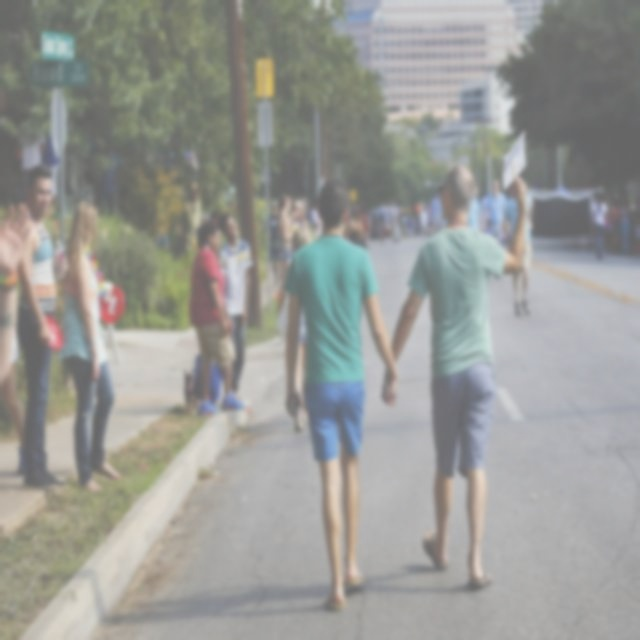pessoa: (379, 161, 527, 590), (282, 175, 400, 612), (53, 198, 123, 496), (16, 162, 68, 488), (187, 218, 247, 418), (0, 201, 31, 475), (276, 224, 312, 433), (216, 210, 254, 406), (505, 180, 535, 318), (178, 176, 205, 288), (368, 203, 448, 237), (276, 193, 296, 301), (484, 178, 508, 244), (268, 200, 284, 286), (156, 210, 184, 258), (592, 192, 610, 262), (610, 194, 630, 256), (287, 198, 310, 250), (306, 196, 322, 265), (470, 187, 484, 234), (504, 186, 514, 244), (351, 207, 367, 233), (350, 202, 366, 223)
